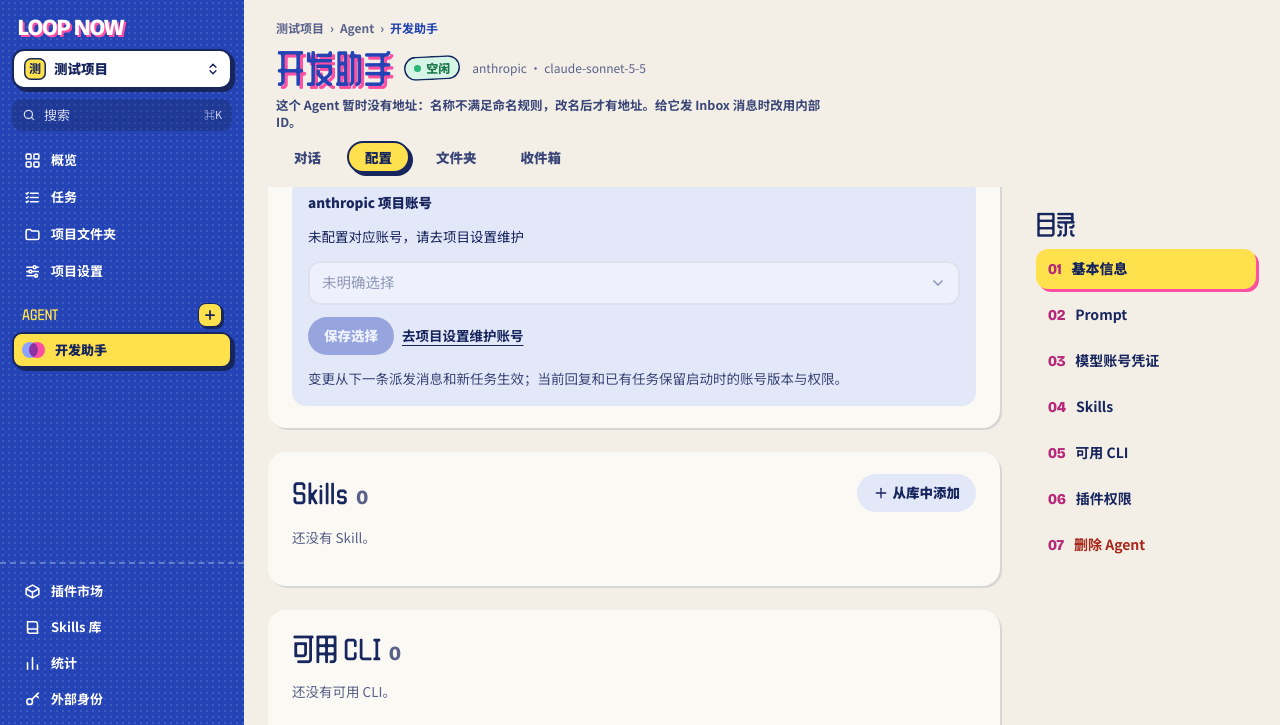
Test: Agent 的 Skills 副本 › 从库中添加模板
(page scrolled)
Click the button "从库中添加" at (916, 493), box [856,474,976,512]
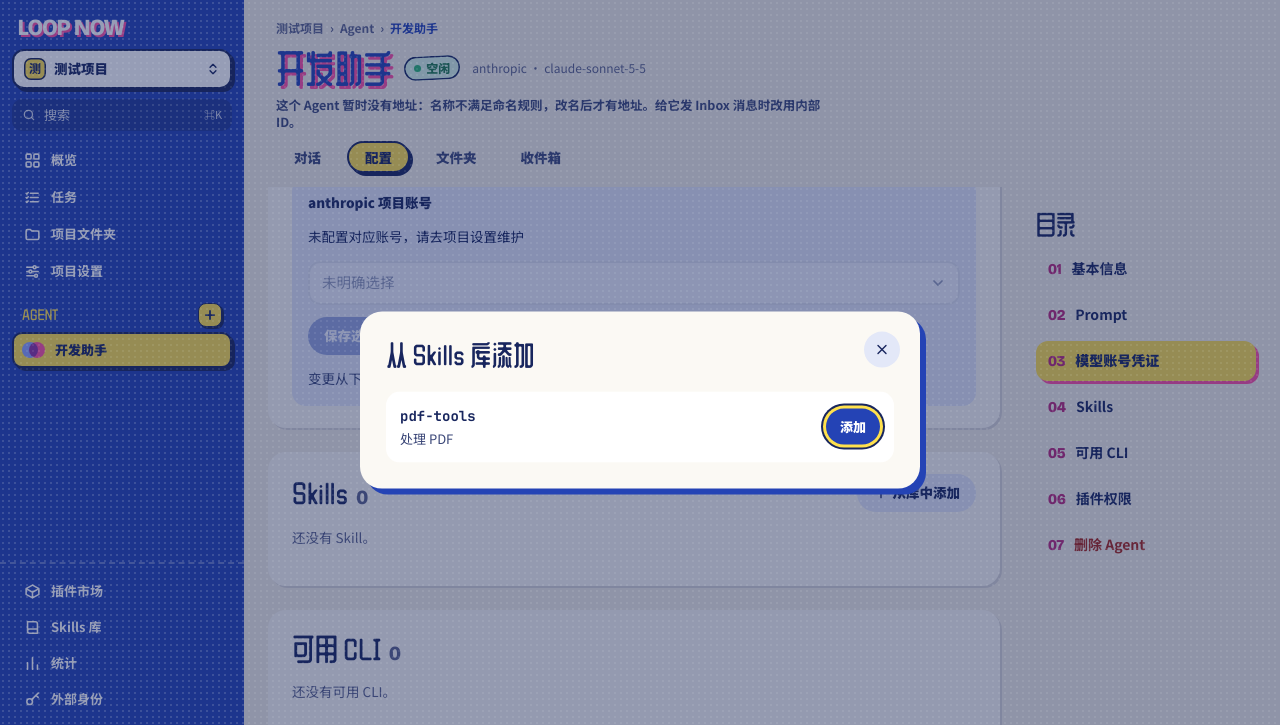
Click the button "添加" at (853, 427), box [826,409,880,445]
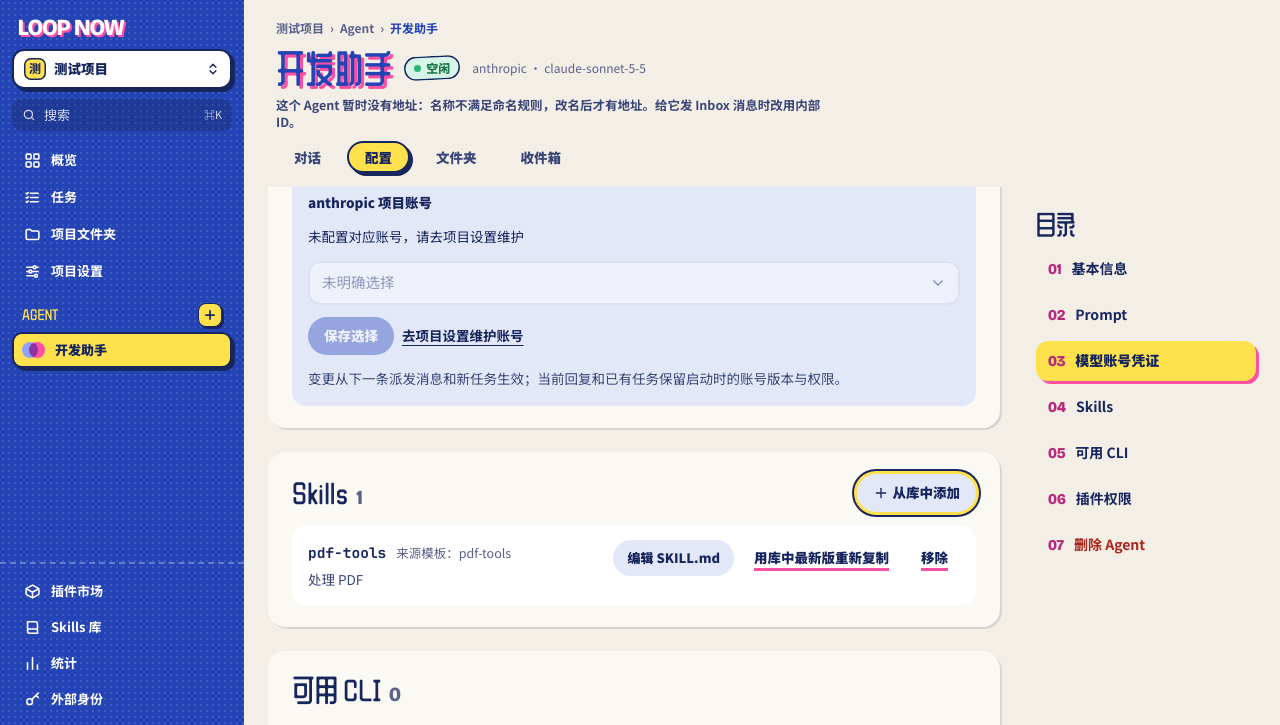
Expected: the list item "pdf-tools" shows "来源模板：pdf-tools", [396,545,511,561]
